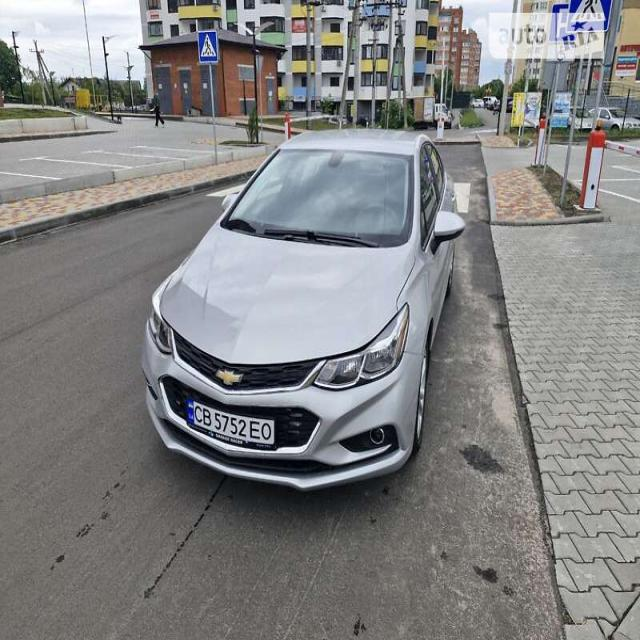plate: (181, 396, 281, 460)
